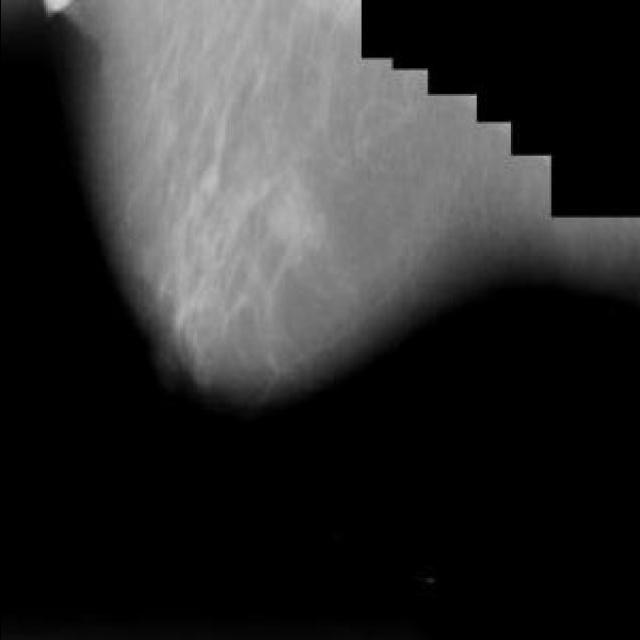tumor: (161, 173, 313, 354)
